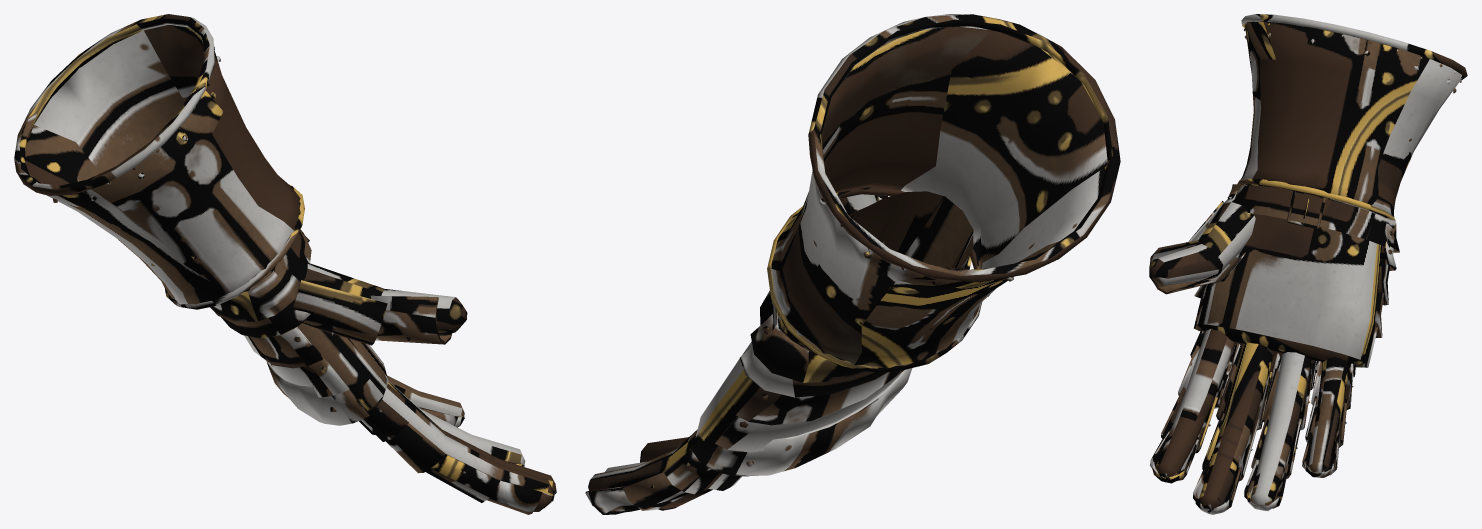
The model's file is SM_EagleGauntlets_L_LOD2.fbx.
3 views of the same model, side by side, from view 1: azimuth 30°, elevation 25°; view 2: azimuth 150°, elevation 25°; view 3: azimuth 270°, elevation 25° (orthographic). The views are drawn at different scales.
Visible parts, largest first — view 1: SM_EagleGauntlets_L_LOD2; view 2: SM_EagleGauntlets_L_LOD2; view 3: SM_EagleGauntlets_L_LOD2.
Boxes of the visible parts, box(x1,y1,x2,y2) form: SM_EagleGauntlets_L_LOD2: box(14, 14, 556, 514); SM_EagleGauntlets_L_LOD2: box(585, 14, 1120, 514); SM_EagleGauntlets_L_LOD2: box(1149, 14, 1467, 514).
Size of the model in its own units: 0.2575 by 0.2735 by 0.2016.
